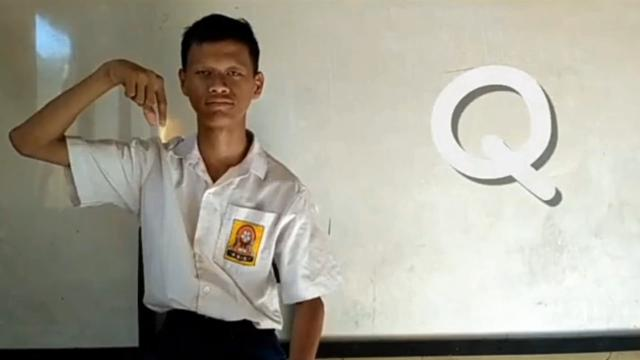Q: (107, 55, 169, 131)
